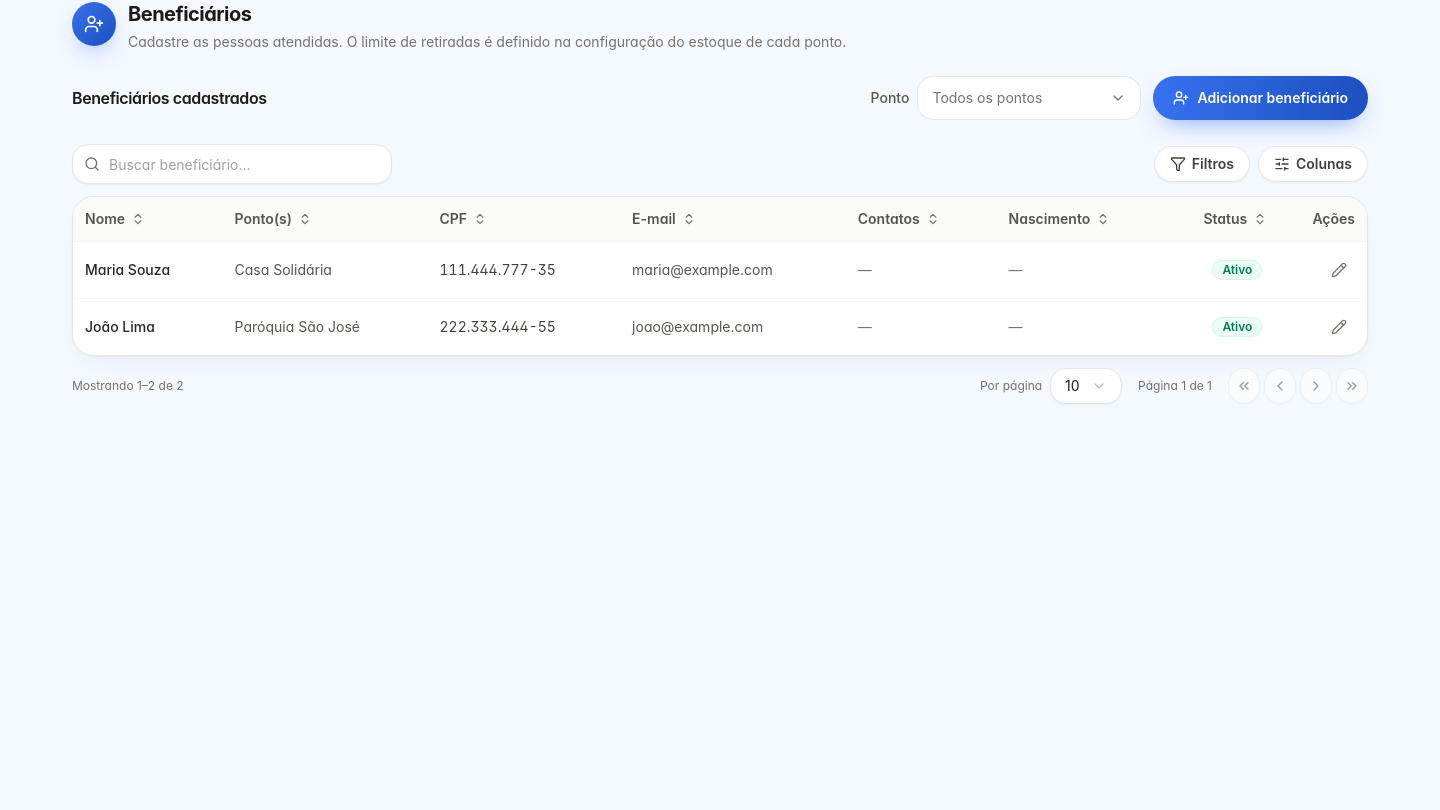
Test: BeneficiariesPage — filtro por ponto do admin › filtra a lista ao escolher um ponto, sem esconder a opção de ver todos de novo
Expected: the text "Maria Souza" is shown, left=85, top=260, right=170, bottom=278
Click the dropdown labelled "ponto": point(1030, 98) left=918, top=76, right=1142, bottom=120
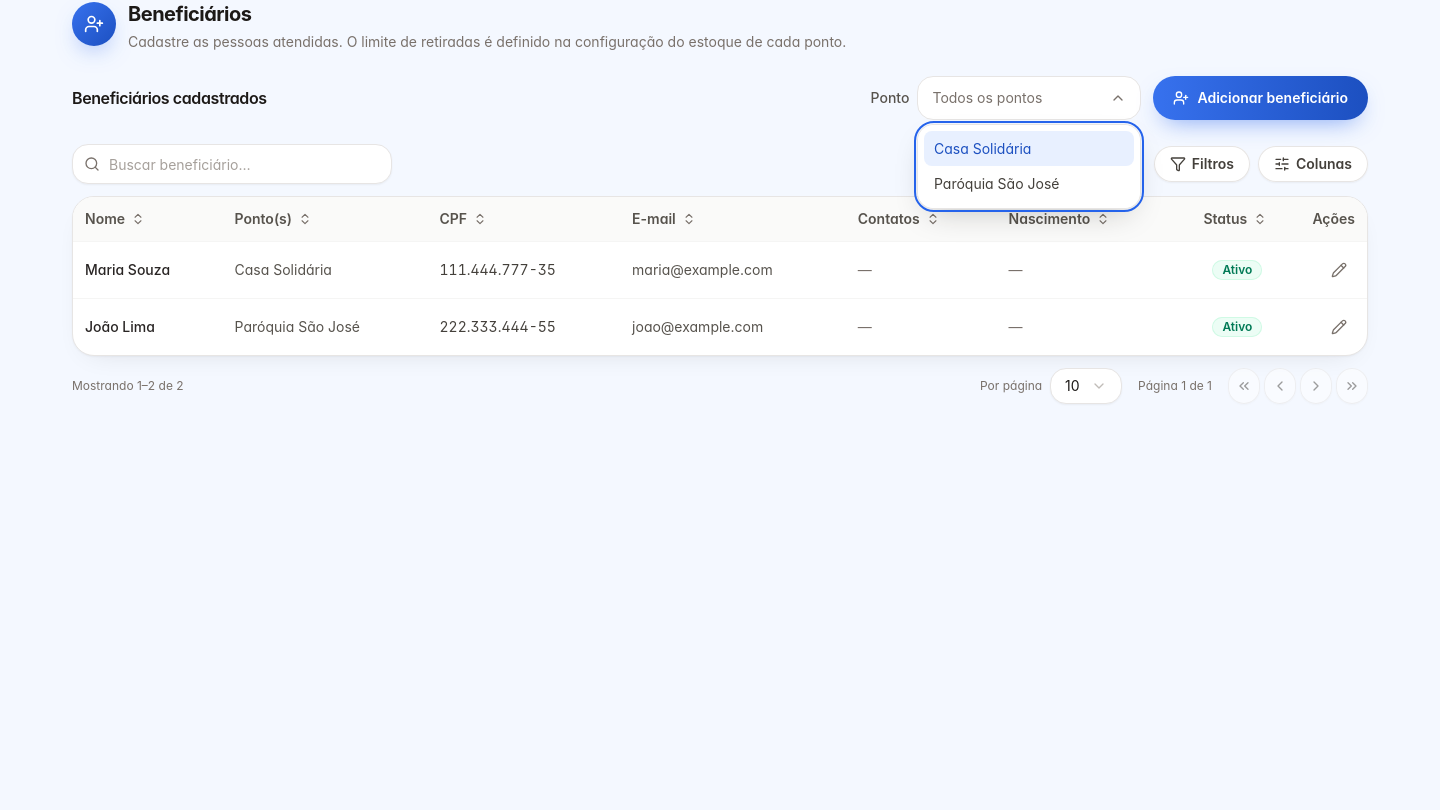
Click the option "Casa Solidária": point(1029, 149) left=924, top=131, right=1134, bottom=166
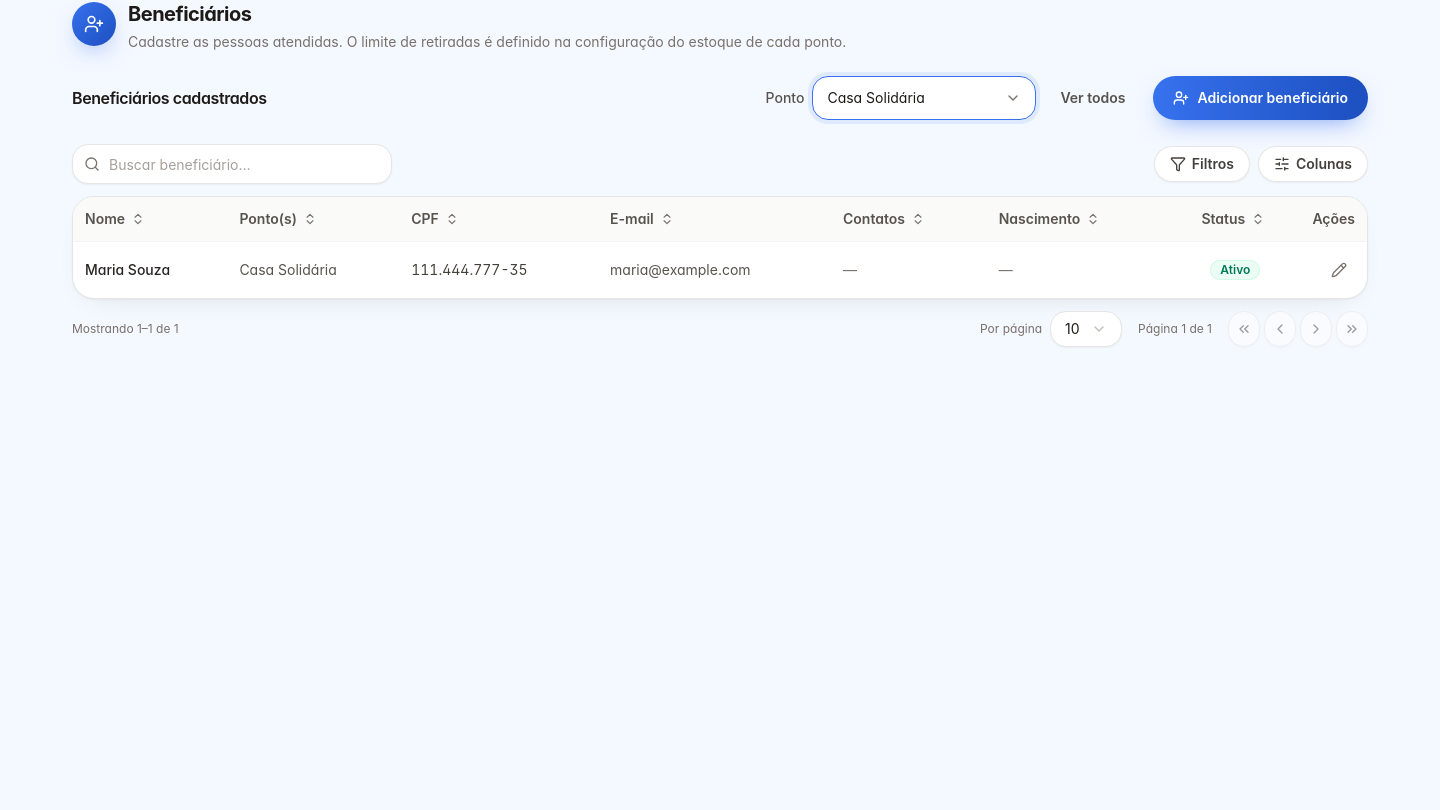
Expected: the text "Maria Souza" is shown, left=85, top=260, right=170, bottom=278
Now the text "João Lima" is gone
Click the button "Ver todos": point(1093, 98) left=1044, top=80, right=1141, bottom=116
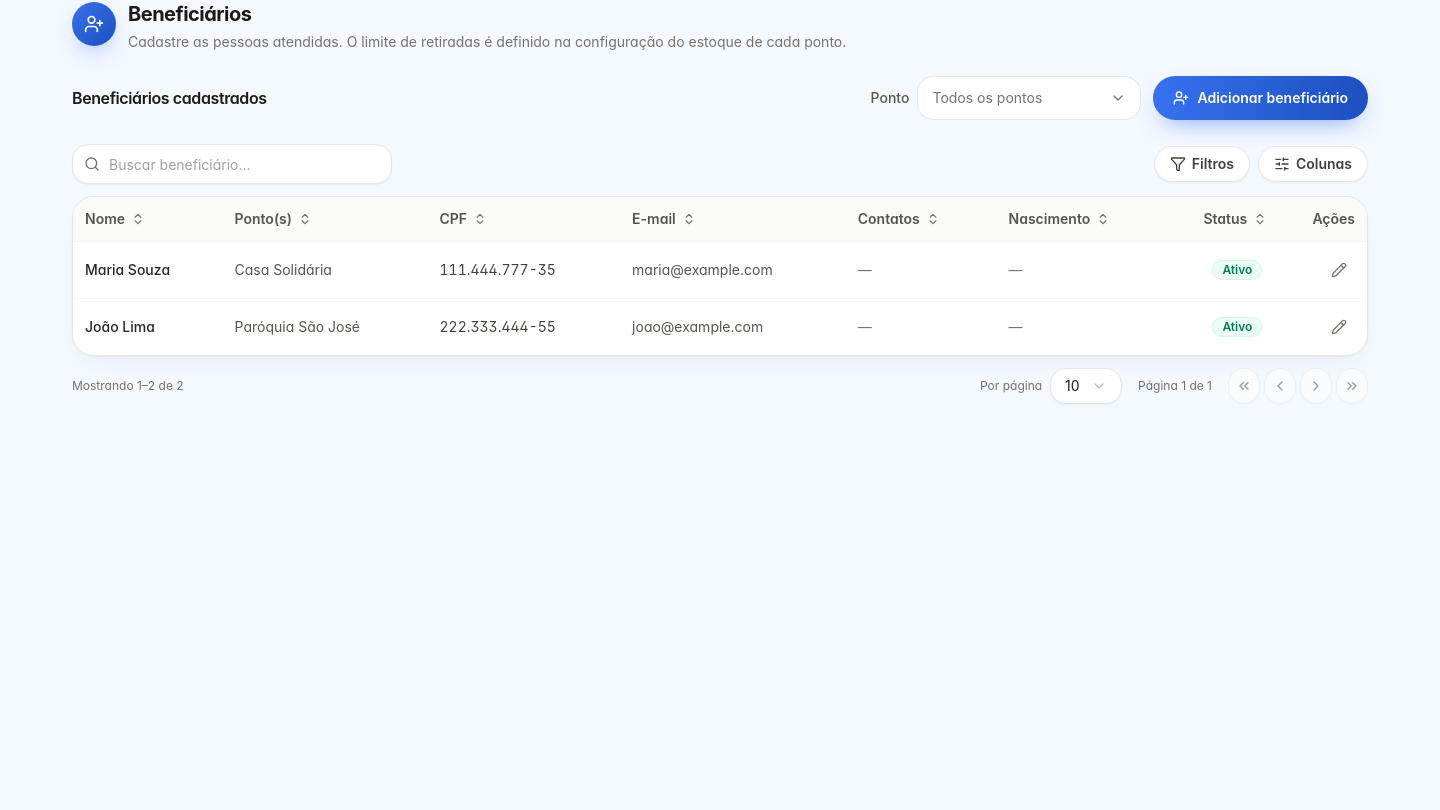
Now the text "João Lima" is shown, box left=85, top=318, right=155, bottom=334
